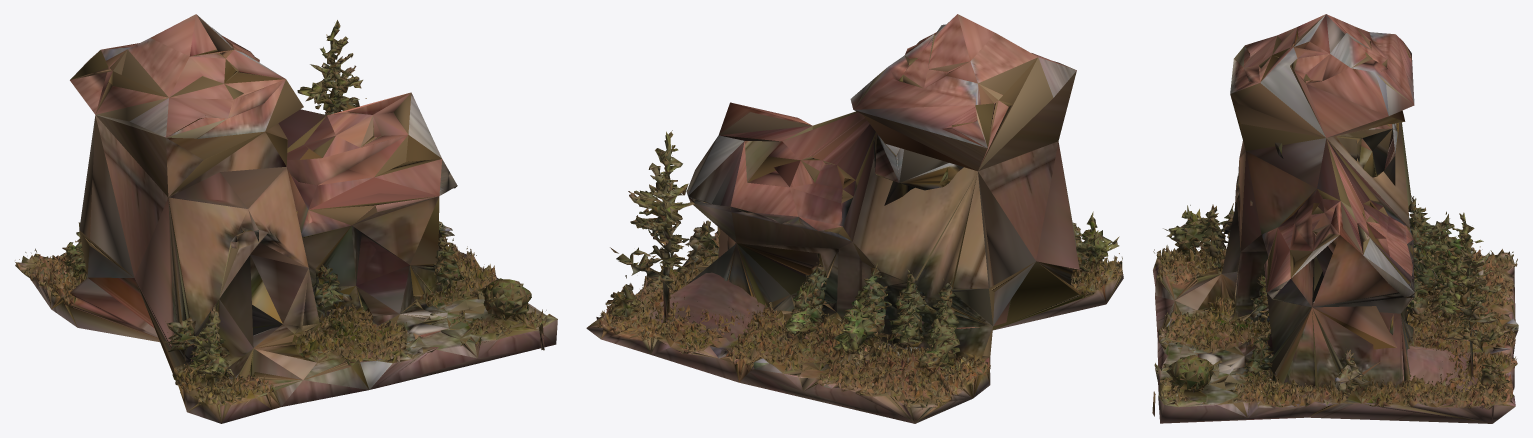
Rendered from Vintage_Stone_Villa.glb.
3 renders of one model, left to right at view 1: azimuth 30°, elevation 25°; view 2: azimuth 150°, elevation 25°; view 3: azimuth 270°, elevation 25°, orthographic. The views are drawn at different scales.
Visible parts, largest first — view 1: Vintage_Stone_Villa; view 2: Vintage_Stone_Villa; view 3: Vintage_Stone_Villa.
Boxes of the visible parts, box(x1,y1,x2,y2) form: Vintage_Stone_Villa: box(15, 14, 557, 423); Vintage_Stone_Villa: box(586, 14, 1123, 423); Vintage_Stone_Villa: box(1152, 14, 1518, 423).
Bounding box in the file's own units: 1.88 × 1.64 × 1.86.
1 material, 1 textured.
